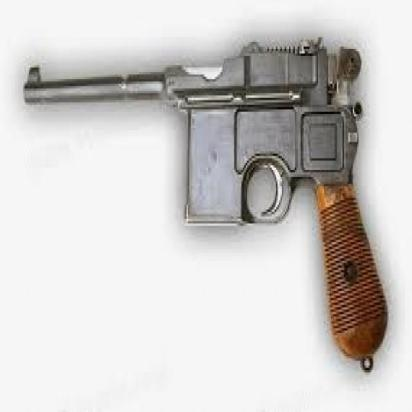Gun: (14, 26, 393, 380)
